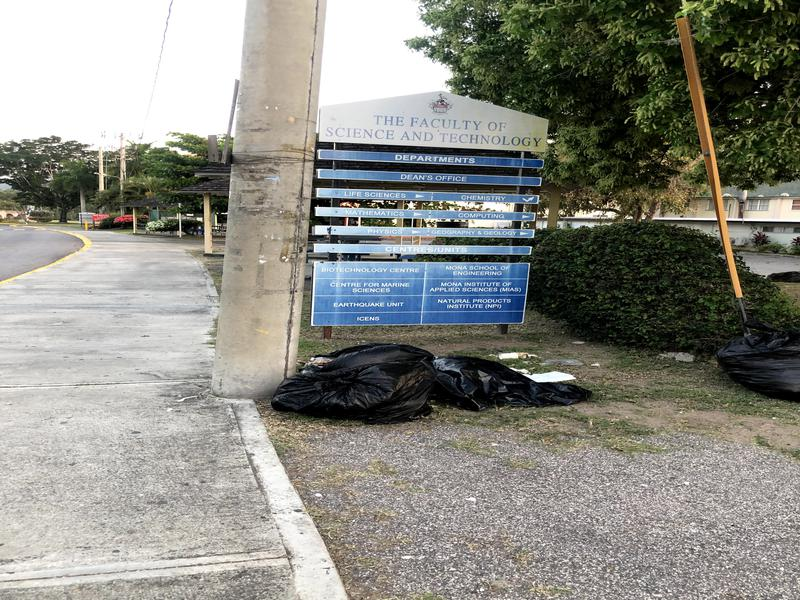18.0055634_-76.7484079_scitechsign: (312, 67, 559, 346)
